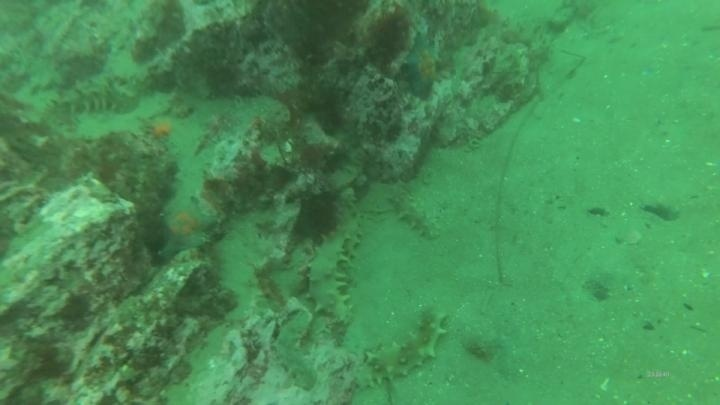holothurian: (355, 304, 452, 389), (303, 211, 366, 325), (271, 307, 320, 393), (238, 220, 284, 310), (53, 73, 142, 119), (385, 182, 442, 242)
starfish: (154, 194, 221, 262), (399, 31, 446, 99), (141, 112, 182, 144)
